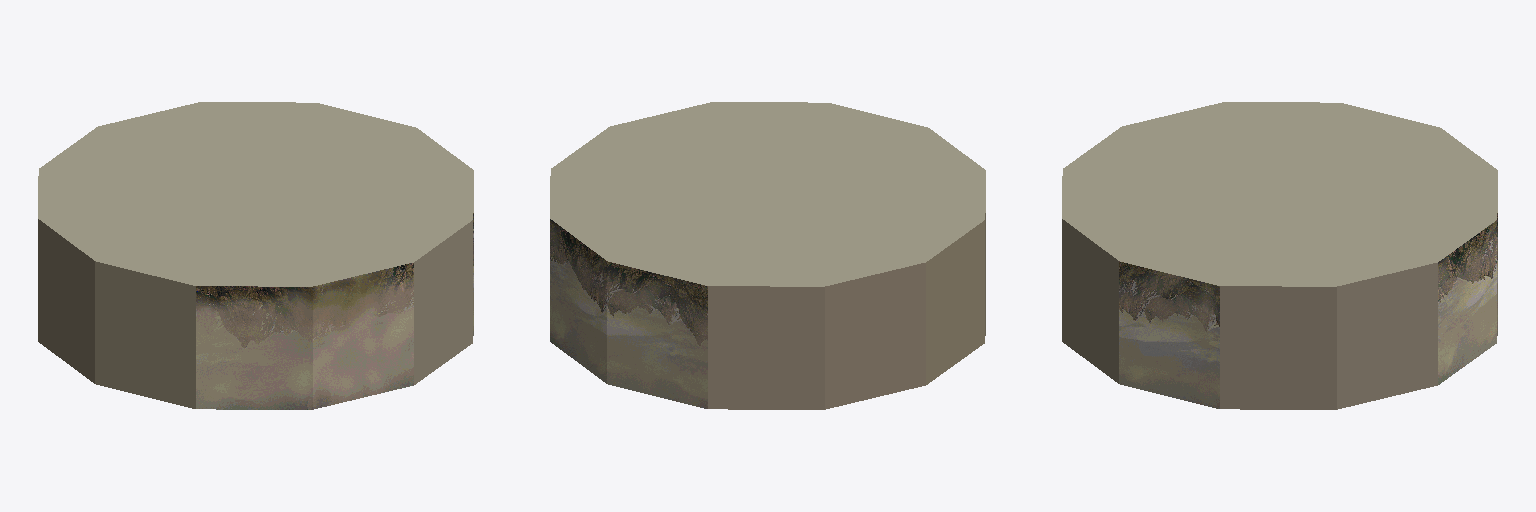
3 renders of one model, left to right at view 1: azimuth 30°, elevation 25°; view 2: azimuth 150°, elevation 25°; view 3: azimuth 270°, elevation 25°, orthographic.
Visible parts, largest first — view 1: Big-SKP--osf_kumo3, Big-SKP--BG_08, Big-SKP--BG_07, Big-SKP--BG_09, Big-SKP--BG_06, Big-SKP--BG_10; view 2: Big-SKP--osf_kumo3, Big-SKP--BG_00, Big-SKP--BG_11, Big-SKP--BG_01, Big-SKP--BG_10, Big-SKP--BG_02; view 3: Big-SKP--osf_kumo3, Big-SKP--BG_04, Big-SKP--BG_03, Big-SKP--BG_05, Big-SKP--BG_02, Big-SKP--BG_06.
Boxes of the visible parts, x1,y1,x2,y2 form: Big-SKP--osf_kumo3: [38, 102, 473, 286]; Big-SKP--BG_08: [196, 286, 312, 409]; Big-SKP--BG_07: [313, 263, 413, 409]; Big-SKP--BG_09: [95, 261, 195, 408]; Big-SKP--BG_06: [414, 220, 472, 384]; Big-SKP--BG_10: [38, 219, 94, 383]; Big-SKP--osf_kumo3: [550, 102, 985, 286]; Big-SKP--BG_00: [708, 286, 824, 409]; Big-SKP--BG_11: [825, 263, 925, 409]; Big-SKP--BG_01: [607, 261, 707, 408]; Big-SKP--BG_10: [926, 220, 984, 384]; Big-SKP--BG_02: [550, 219, 606, 383]; Big-SKP--osf_kumo3: [1062, 102, 1497, 286]; Big-SKP--BG_04: [1220, 286, 1336, 409]; Big-SKP--BG_03: [1337, 263, 1437, 409]; Big-SKP--BG_05: [1119, 261, 1219, 408]; Big-SKP--BG_02: [1438, 220, 1496, 384]; Big-SKP--BG_06: [1062, 219, 1118, 383].
Bounding box in the file's own units: 89202 × 27763 × 89202.
14 materials, 5 textured.